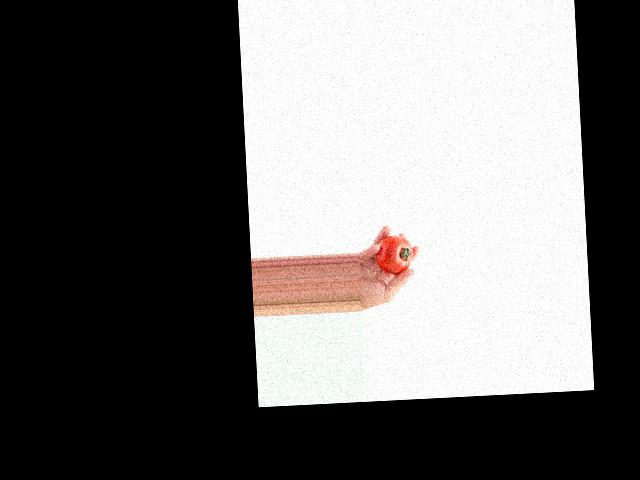tomato: (374, 234, 413, 275)
